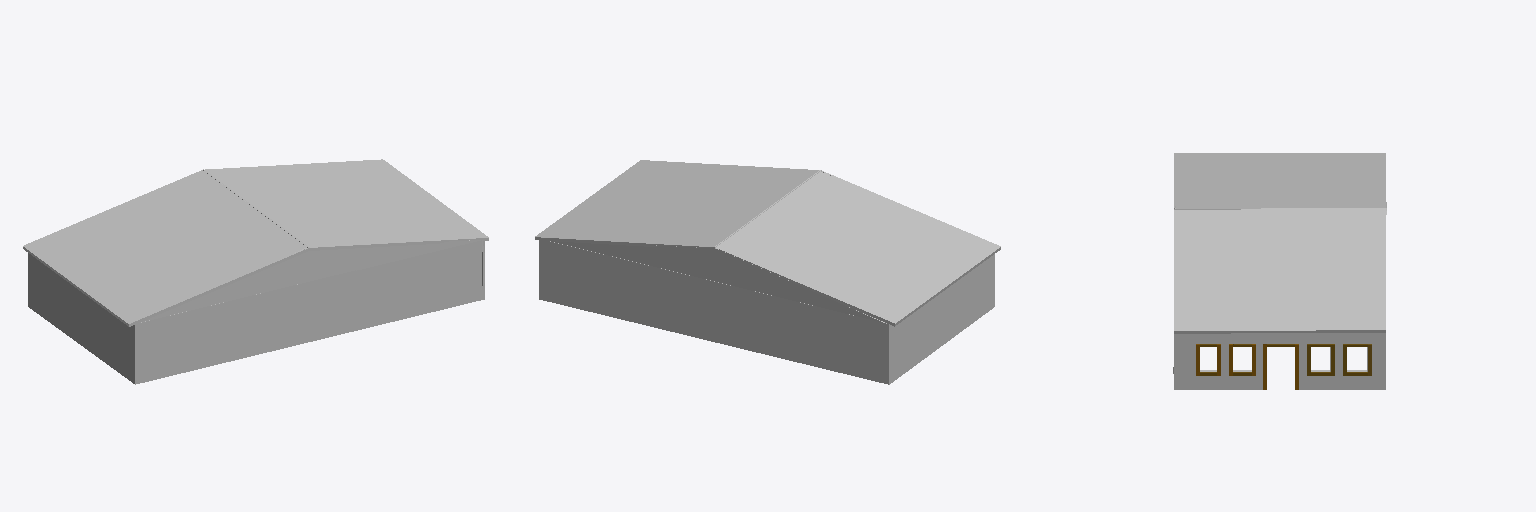
File: paredes2.obj
3 renders of one model, left to right at view 1: azimuth 30°, elevation 25°; view 2: azimuth 150°, elevation 25°; view 3: azimuth 270°, elevation 25°, orthographic.
Parts seen in each view (by area): view 1: Cubo.003_Cubo.003, Cubo.001_Cubo, Cubo.003_Cubo.004, Cubo.003_Cubo.001, Cubo.004_Cubo; view 2: Cubo.003_Cubo.003, Cubo.000_Cubo.004, Cubo.003_Cubo.004, Cubo.003_Cubo.001, Cubo.020_Cubo.001; view 3: Cubo.003_Cubo.004, Cubo.003_Cubo.003, Cubo.002_Cubo.001.
Part boxes in pixels (left/top/right/bottom): Cubo.003_Cubo.003: left=23, top=169, right=309, bottom=326; Cubo.001_Cubo: left=138, top=241, right=481, bottom=383; Cubo.003_Cubo.004: left=203, top=159, right=488, bottom=250; Cubo.003_Cubo.001: left=28, top=253, right=137, bottom=384; Cubo.004_Cubo: left=140, top=240, right=480, bottom=322; Cubo.003_Cubo.003: left=714, top=170, right=1000, bottom=326; Cubo.000_Cubo.004: left=541, top=241, right=885, bottom=383; Cubo.003_Cubo.004: left=535, top=160, right=821, bottom=247; Cubo.003_Cubo.001: left=886, top=254, right=994, bottom=384; Cubo.020_Cubo.001: left=551, top=241, right=884, bottom=322; Cubo.003_Cubo.004: left=1174, top=208, right=1385, bottom=333; Cubo.003_Cubo.003: left=1174, top=153, right=1385, bottom=209; Cubo.002_Cubo.001: left=1173, top=333, right=1385, bottom=389.
Bounding box in the file's own units: 22.03 × 5.55 × 11.27.